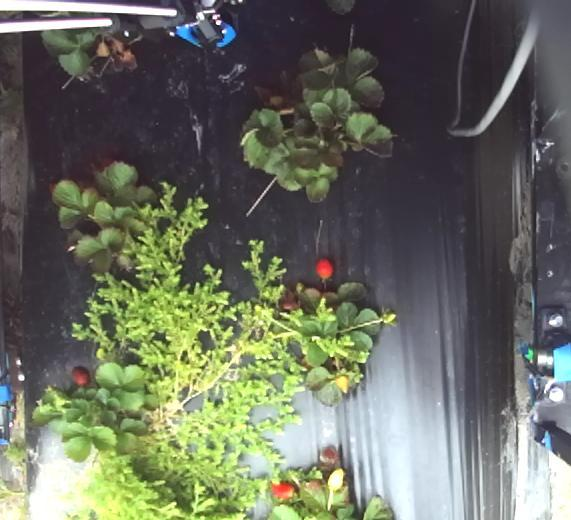mature: (270, 480, 294, 500), (314, 256, 334, 280), (71, 365, 90, 386)
